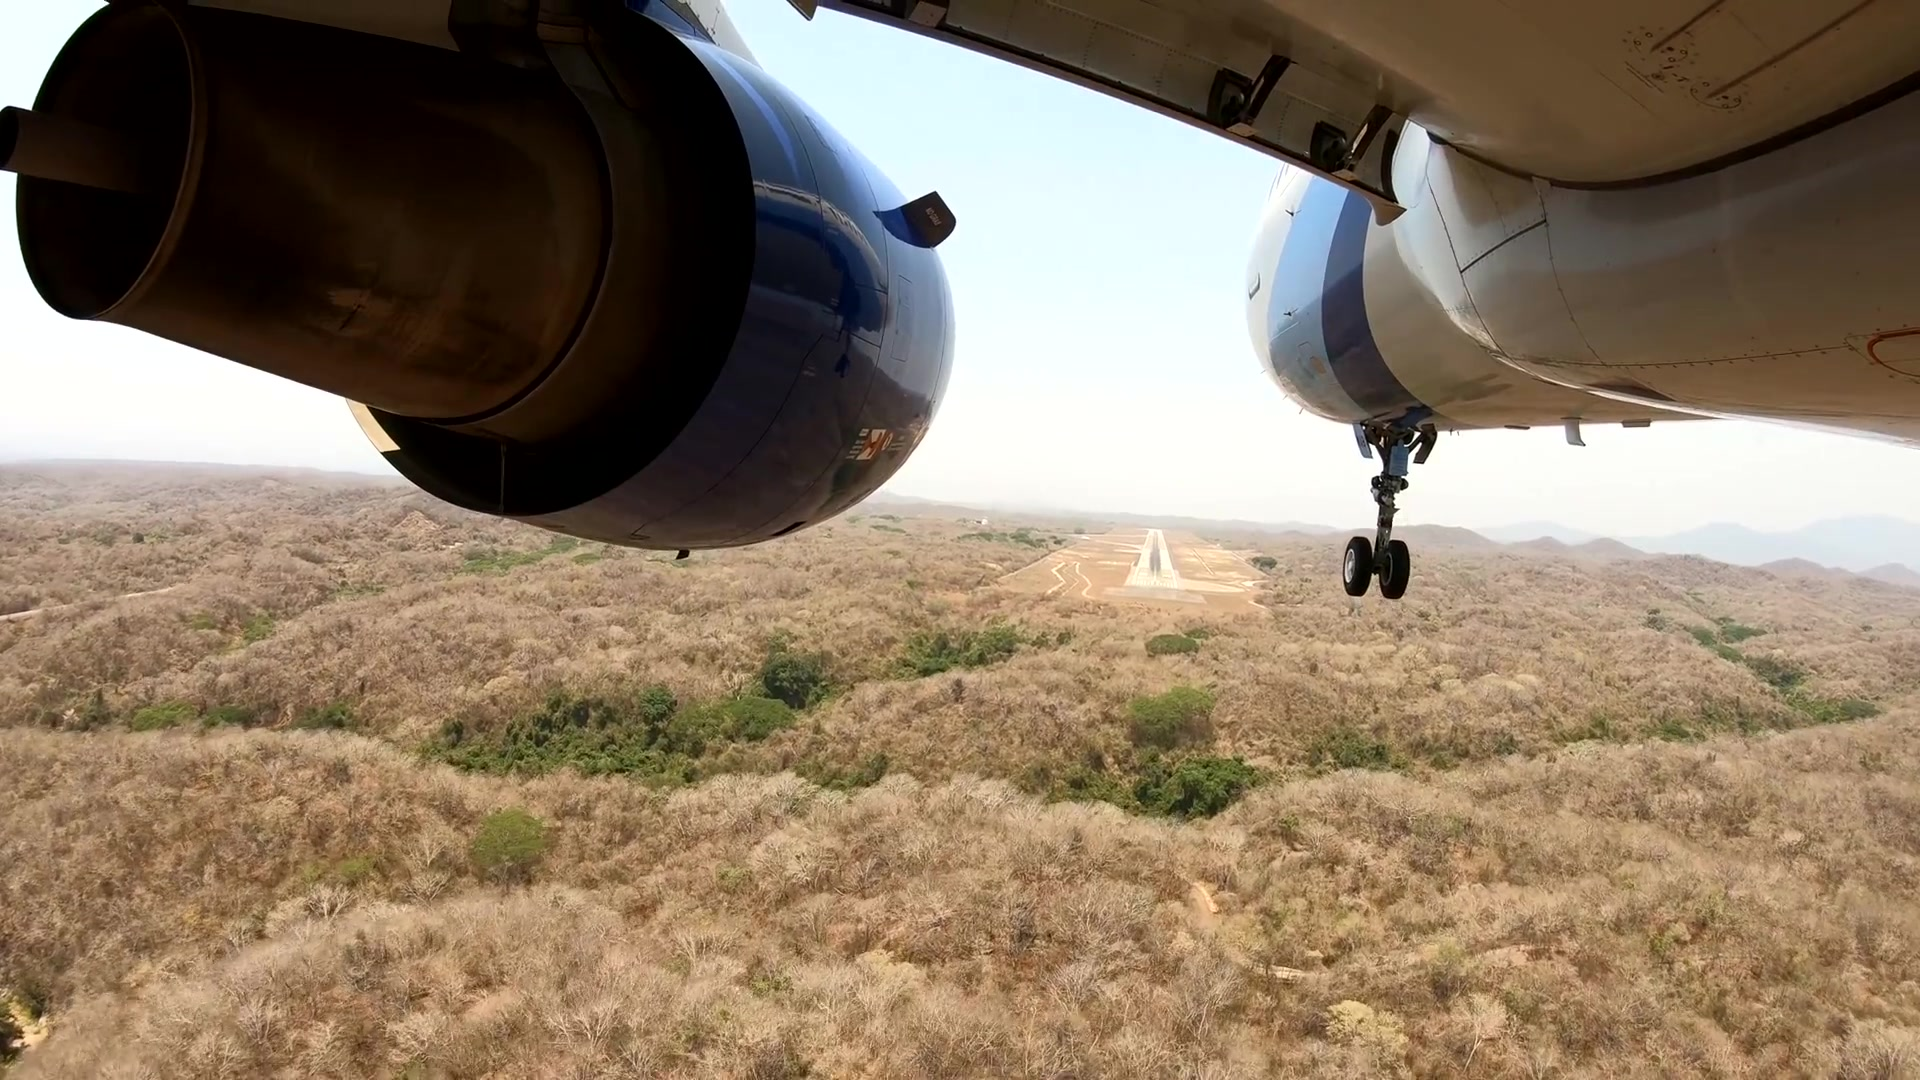entrance: (1131, 578, 1176, 589)
runway: (1124, 527, 1180, 593)
